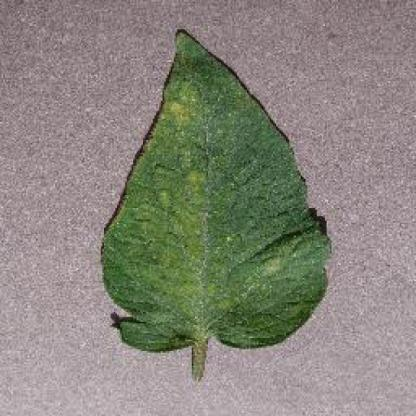Tomato_Spider_Mites: (102, 31, 332, 348)
